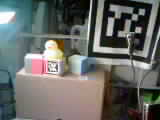duck: (37, 29, 67, 64)
